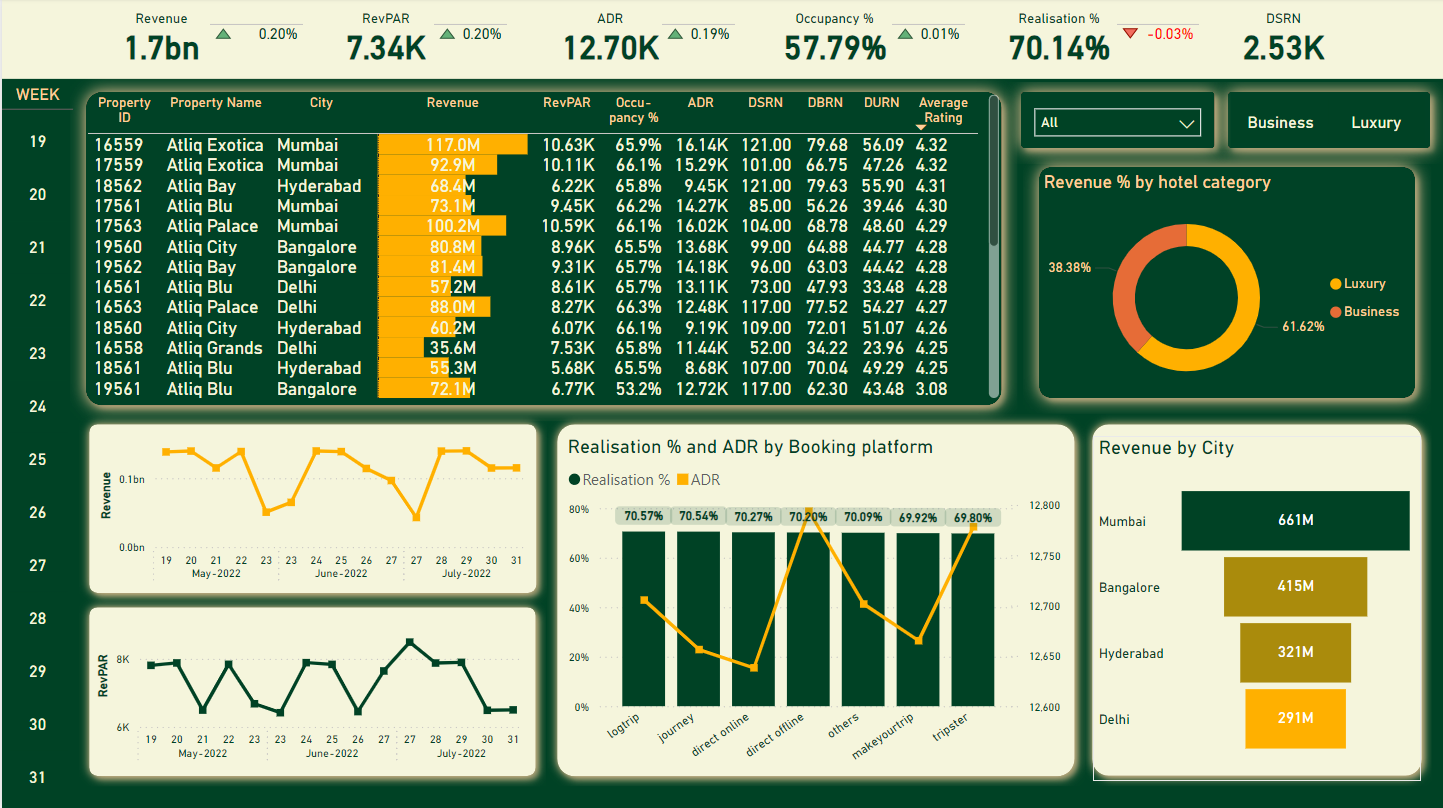

What the dashboard file says about the page in this screenshot:
{"tool":"powerbi","page":{"name":"Page 1","canvas":[1280,720],"ordinal":0},"visuals":[{"type":"shape","box":[0,0,1280,71.7],"z":0},{"type":"cardVisual","fields":{"Data":["Key Measures (2).Revenue","Key Measures (2).RevPAR","Key Measures (2).ADR","Key Measures (2).Occupancy %","Key Measures (2).Realisation %","Key Measures (2).DSRN"]},"box":[40.8,0,1198.8,71.8],"z":1000},{"type":"shape","title":"table Shape","box":[60.2,69.3,840.3,306.2],"z":2000},{"type":"shape","title":"realisation Shape","box":[68.3,368.4,414.6,167.7],"z":3000},{"type":"shape","title":"hotel cate Shape","box":[905.3,135.7,361.8,233.2],"z":4000},{"type":"shape","title":"hotel cate Shape","box":[957.6,368.9,310.3,329.9],"z":5000},{"type":"shape","title":"hotel cate Shape","box":[1072.5,69,207.5,78],"z":6000},{"type":"advancedSlicerVisual","title":"WEEK","fields":{"Values":["dim_date.wn"]},"box":[0,77.3,63.2,642.5],"z":7000},{"type":"shape","title":"hotel cate Shape","box":[889.2,69,200,78],"z":8000},{"type":"donutChart","title":"Revenue % by hotel category","fields":{"Category":["dim_hotels.category"],"Y":["Key Measures (2).Revenue"]},"box":[918.6,153.4,335.2,206.6],"z":9000},{"type":"tableEx","title":"big Table","fields":{"Values":["dim_hotels.property_id","dim_hotels.property_name","dim_hotels.city","Key Measures (2).Revenue","Key Measures (2).RevPAR","Key Measures (2).Occupancy %","Key Measures (2).ADR","Key Measures (2).DSRN","Key Measures (2).DBRN","Key Measures (2).DURN","Key Measures (2).Average Rating"]},"box":[70.3,80.3,819.2,279.1],"z":10000},{"type":"slicer","fields":{"Values":["dim_hotels.city"]},"box":[905.2,87.8,168,41.7],"z":11000},{"type":"tableEx","fields":{"Values":["Key Measures (2).Revenue WoW change %"]},"box":[178.2,0,103.7,44.3],"z":12000},{"type":"tableEx","fields":{"Values":["Key Measures (2).Revpar WoW change %"]},"box":[376.8,0,90.4,44.3],"z":13000},{"type":"shape","title":"realisation Shape","box":[68,531.1,414,167.7],"z":14000},{"type":"lineChart","fields":{"Category":["dim_date.mm yyyy","dim_date.wn"],"Y":["Key Measures (2).Revenue"]},"box":[81.3,381.5,388.5,146.6],"z":15000},{"type":"lineChart","fields":{"Category":["dim_date.mm yyyy","dim_date.wn"],"Y":["Key Measures (2).RevPAR"]},"box":[79.3,542.1,388.5,145.6],"z":16000},{"type":"shape","title":"hotel cate Shape","box":[482.9,368.4,476.9,330.3],"z":17000},{"type":"lineClusteredColumnComboChart","title":"Realisation % and ADR by Booking platform","fields":{"Category":["fact_bookings.booking_platform"],"Y":["Key Measures (2).Realisation %"],"Y2":["Key Measures (2).ADR"]},"box":[496.6,387.5,447.8,306.8],"z":18000},{"type":"funnel","title":"Revenue by City","fields":{"Category":["dim_hotels.city"],"Y":["Key Measures (2).Revenue"]},"box":[967.4,388.4,290.8,305.9],"z":19000},{"type":"advancedSlicerVisual","fields":{"Values":["dim_hotels.category"]},"box":[1086.4,84,181.8,50.5],"z":20000},{"type":"tableEx","fields":{"Values":["Key Measures (2).ADR WoW change %"]},"box":[579,0,88.7,44.3],"z":21000},{"type":"tableEx","fields":{"Values":["Key Measures (2).Occupancy WoW change %"]},"box":[783,0,88.7,44.3],"z":22000},{"type":"tableEx","fields":{"Values":["Key Measures (2).Realisation WoW change %"]},"box":[982.6,0,89.5,44.3],"z":23000}]}

Visuals, with their boxes in screenshot pixels (x1, y1, x2, y2), scaled from the page's 1280x720 canvas onto the 1443x808 screenshot:
shape: [0,0,1442,80]
cardVisual - Key Measures (2).Revenue x Key Measures (2).RevPAR: [46,0,1397,81]
"table Shape" shape: [68,78,1015,421]
"realisation Shape" shape: [77,413,544,602]
"hotel cate Shape" shape: [1021,152,1428,414]
"hotel cate Shape" shape: [1080,414,1429,784]
"hotel cate Shape" shape: [1209,77,1442,165]
"WEEK" advancedSlicerVisual: [0,87,71,807]
"hotel cate Shape" shape: [1002,77,1228,165]
"Revenue % by hotel category" donutChart: [1036,172,1413,404]
"big Table" tableEx: [79,90,1003,403]
slicer - dim_hotels.city: [1020,99,1210,145]
tableEx - Key Measures (2).Revenue WoW change %: [201,0,318,50]
tableEx - Key Measures (2).Revpar WoW change %: [425,0,527,50]
"realisation Shape" shape: [77,596,543,784]
lineChart - dim_date.mm yyyy x dim_date.wn: [92,428,530,593]
lineChart - dim_date.mm yyyy x dim_date.wn: [89,608,527,772]
"hotel cate Shape" shape: [544,413,1082,784]
"Realisation % and ADR by Booking platform" lineClusteredColumnComboChart: [560,435,1065,779]
"Revenue by City" funnel: [1091,436,1418,779]
advancedSlicerVisual - dim_hotels.category: [1225,94,1430,151]
tableEx - Key Measures (2).ADR WoW change %: [653,0,753,50]
tableEx - Key Measures (2).Occupancy WoW change %: [883,0,983,50]
tableEx - Key Measures (2).Realisation WoW change %: [1108,0,1209,50]
